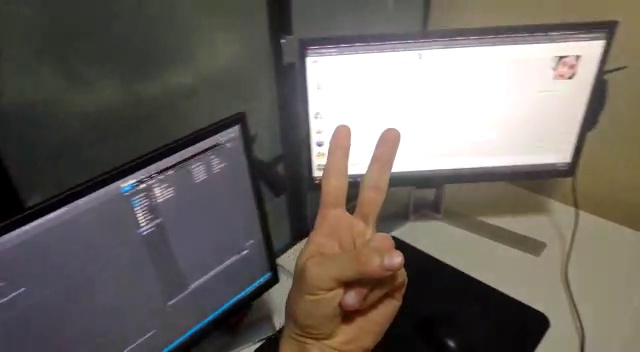Peace: (279, 122, 417, 348)
